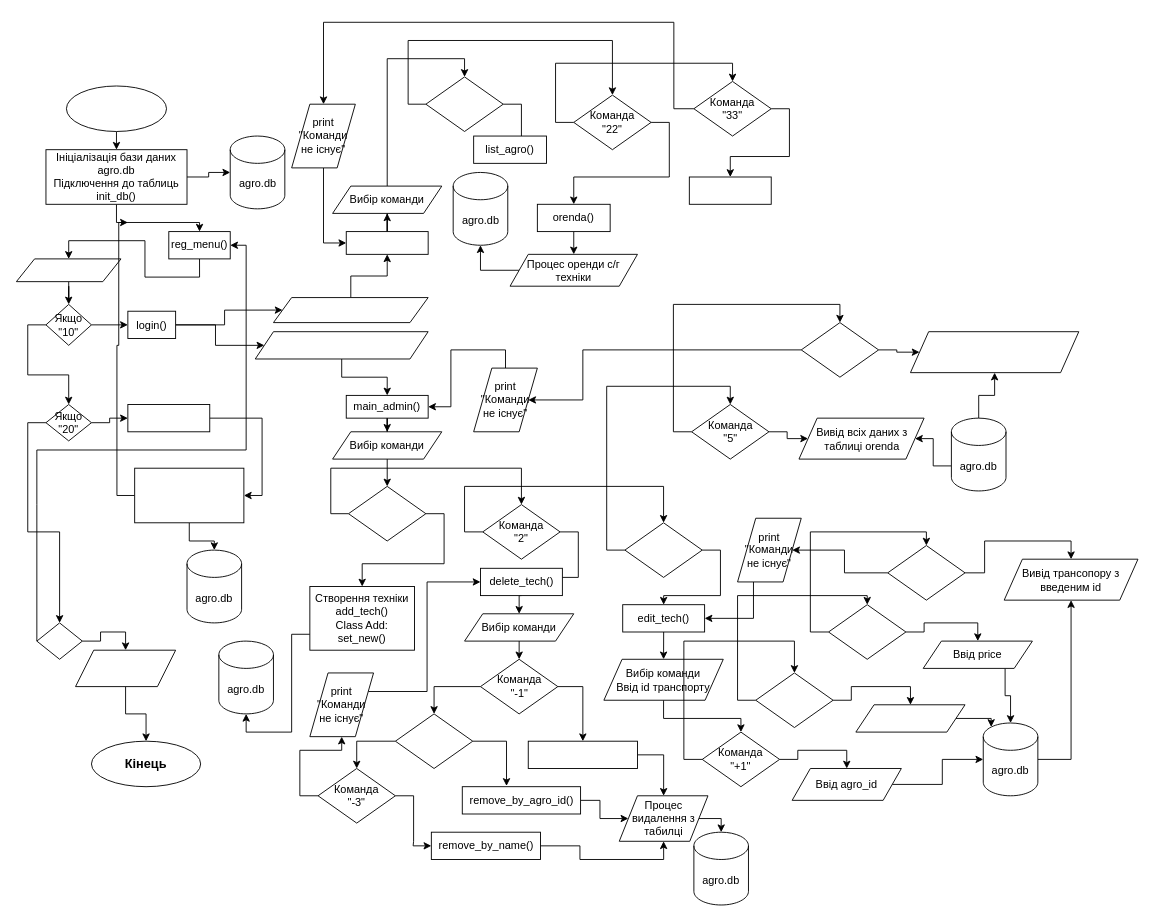
Image size: 1154x921. Some labels were removed from this diagram. The shapes that lost their labels are listed below. From the top down, each one's box as (x1, y1, x2, y2) in pixels, then its label:
(66, 85, 167, 131): Початок
(425, 76, 503, 131): Команда "11"
(688, 176, 771, 204): how_to_use()
(345, 231, 428, 254): main_user()
(15, 258, 121, 282): Ввід в консоль
(273, 297, 428, 323): Авторизація корисувача
(254, 331, 428, 359): Авторизація адміністратора "admin"
(800, 322, 879, 377): Команда "6"
(910, 331, 1079, 373): Вивід всіх даних з таблиці agro_technics
(127, 404, 210, 432): registr_user()
(134, 467, 244, 523): Створення користувача Class CreateUser: set_new_user()
(348, 485, 426, 541): Команда "1"
(624, 522, 702, 577): Команда "3"
(887, 545, 965, 600): Команда "+4"
(36, 622, 82, 659): Якщо "30"
(828, 604, 906, 659): Команда "+3"
(75, 649, 176, 687): Кінець роботи програми
(755, 672, 833, 728): Команда "+2"
(855, 704, 965, 732): Ввід name
(394, 713, 473, 768): Команда "-2"
(527, 740, 637, 768): remove_by_id()
